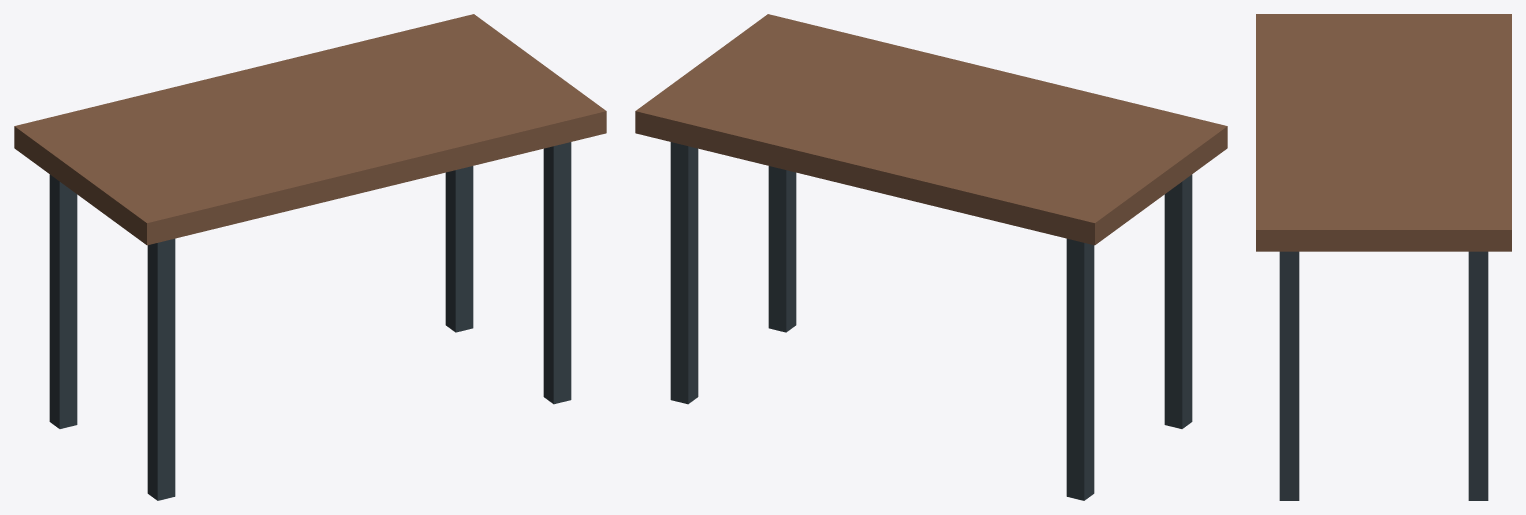
The model's file is desk.glb.
3 views of the same model, side by side, from view 1: azimuth 30°, elevation 25°; view 2: azimuth 150°, elevation 25°; view 3: azimuth 270°, elevation 25° (orthographic). The views are drawn at different scales.
Parts seen in each view (by area): view 1: desk; view 2: desk; view 3: desk.
Part boxes in pixels (left/top/right/bottom): desk: left=14, top=14, right=606, bottom=500; desk: left=635, top=14, right=1227, bottom=500; desk: left=1256, top=14, right=1511, bottom=500.
Size of the model in its own units: 1.3 by 0.79 by 0.65.
